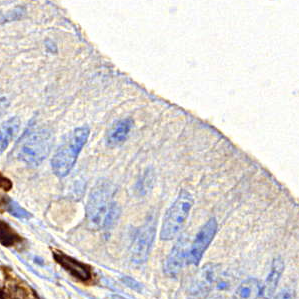Lymphocyte: (49, 245, 98, 289)
